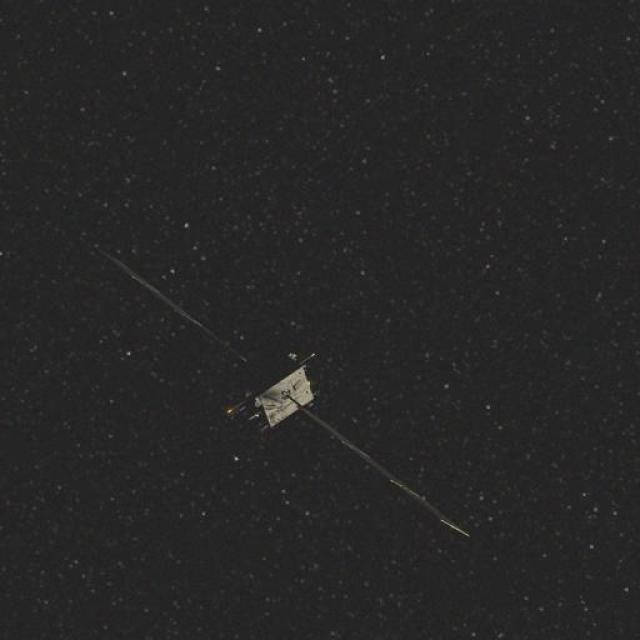smart_1: (161, 284, 375, 497)
